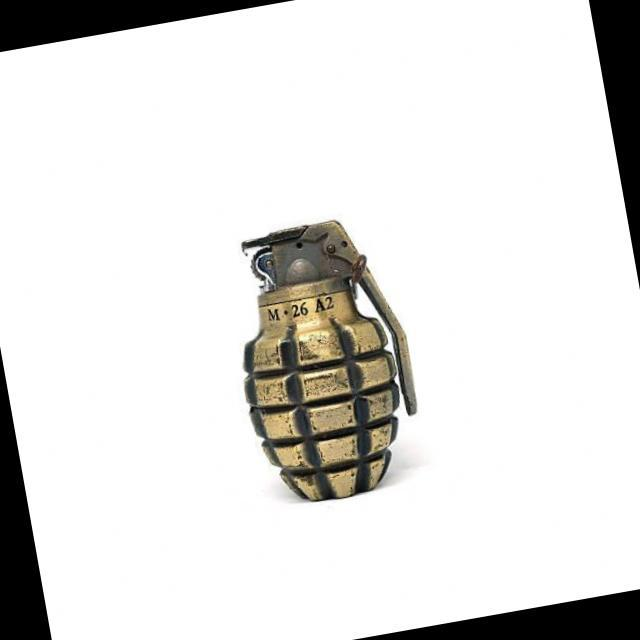grenade: (210, 202, 437, 510)
